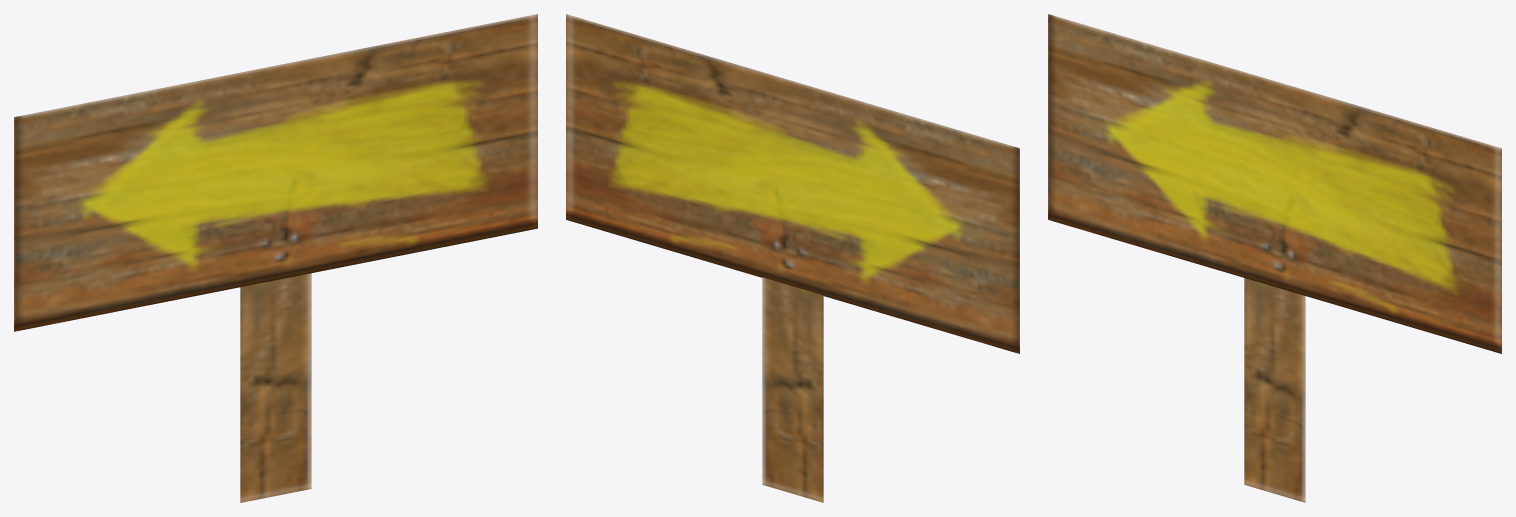
Rendered from rightway03.glb.
The picture shows the model from 3 angles, left to right: view 1: azimuth 30°, elevation 25°; view 2: azimuth 150°, elevation 25°; view 3: azimuth 330°, elevation 25°; orthographic projection. The views are drawn at different scales.
Parts seen in each view (by area): view 1: rightway03; view 2: rightway03; view 3: rightway03.
Part boxes in pixels (<box>): rightway03: <box>14,14,537,502</box>; rightway03: <box>566,14,1019,502</box>; rightway03: <box>1048,14,1501,502</box>.
Bounding box in the file's own units: 568 × 469 × 49.69.
1 material, 1 textured.
